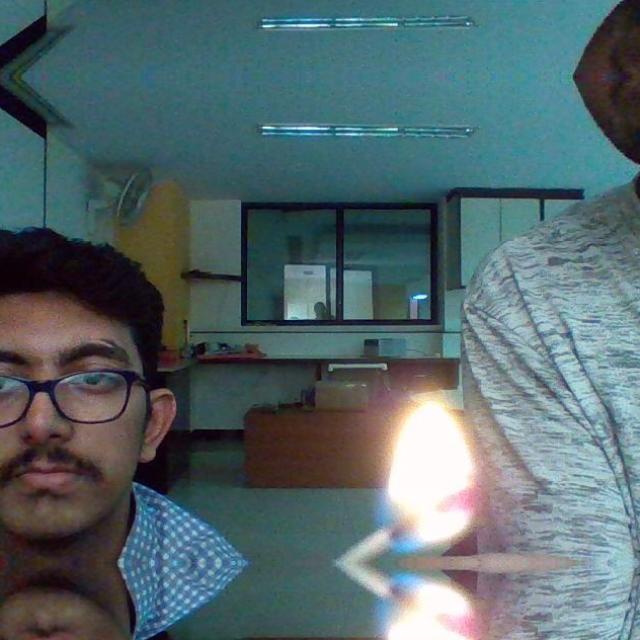smoke: (370, 399, 493, 555), (370, 571, 493, 640)
